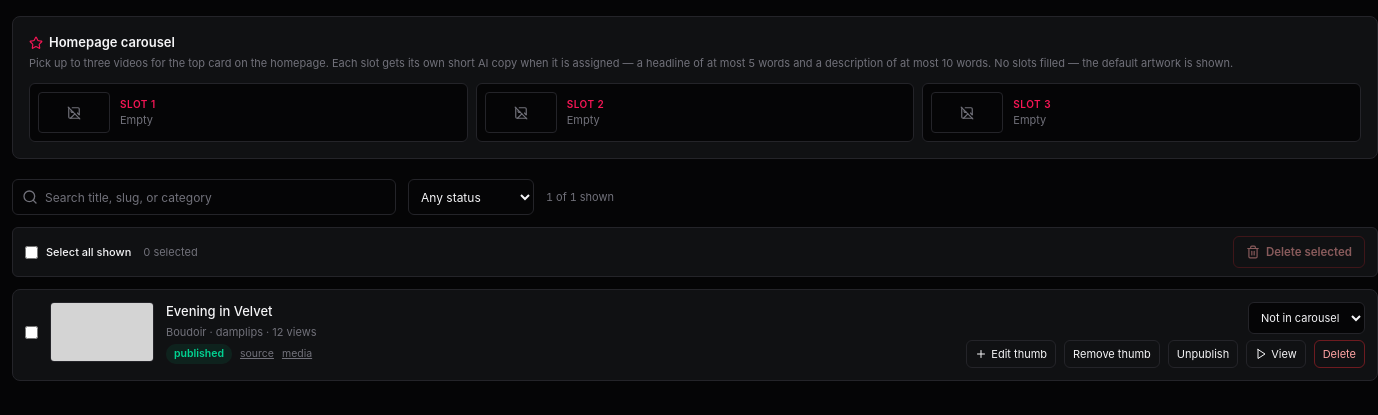
VideoManager › surfaces a failed delete instead of pretending it worked
Click the button "Delete".
click(1339, 354)  # box [1314,340,1365,368]
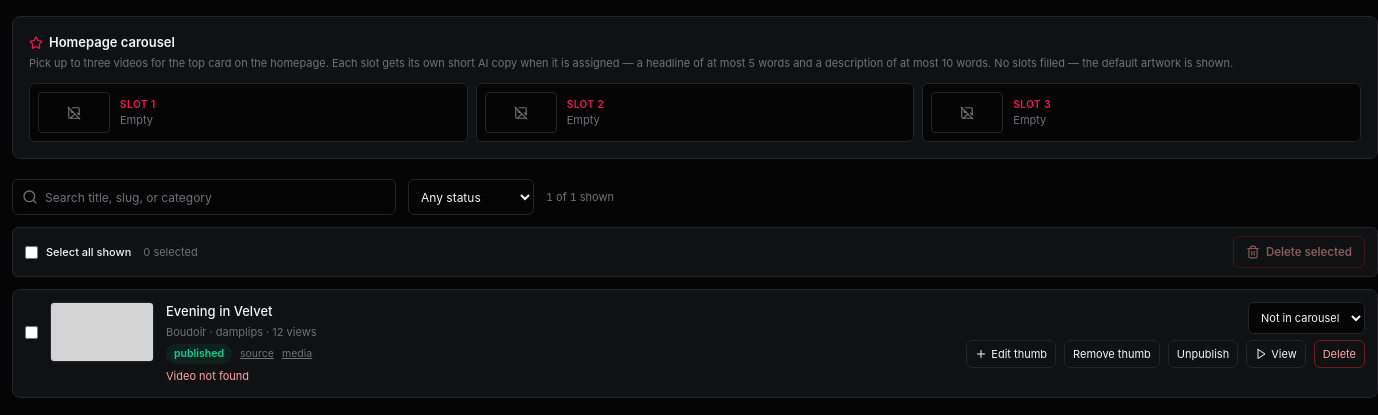
Expected: the text "Evening in Velvet" is shown, [166,303,272,319]
Result: the text "Video not found" is shown at [166,369,249,383]
